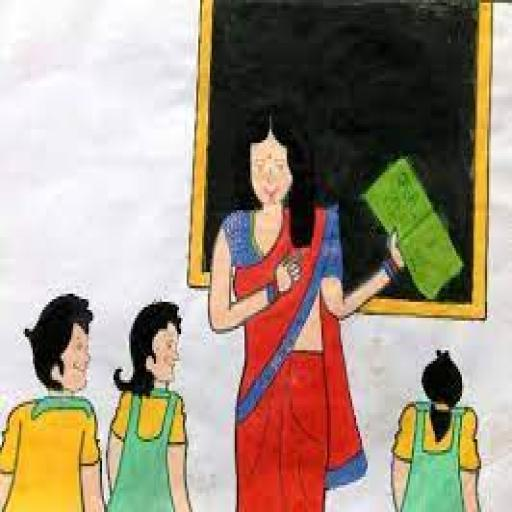person: (201, 101, 404, 509), (0, 288, 114, 512), (99, 295, 199, 507), (379, 347, 497, 503)
